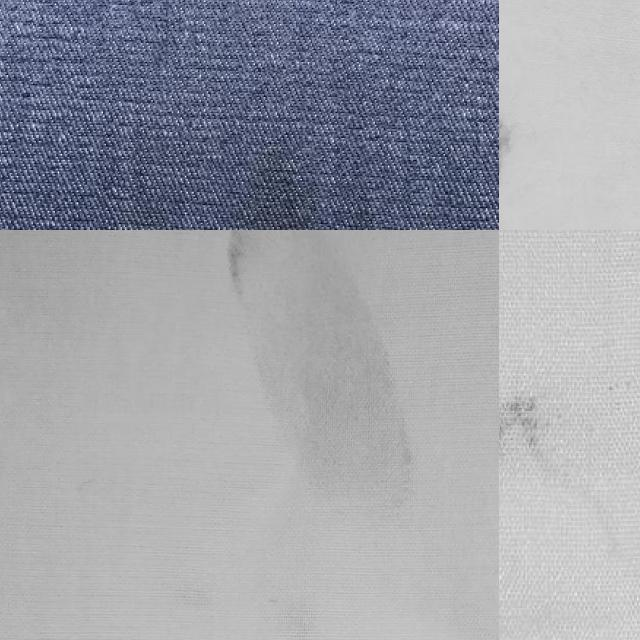Thread_other: (499, 376, 576, 484), (499, 7, 529, 230)
